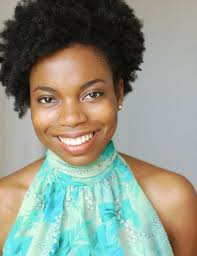black_female: (5, 2, 143, 170)
